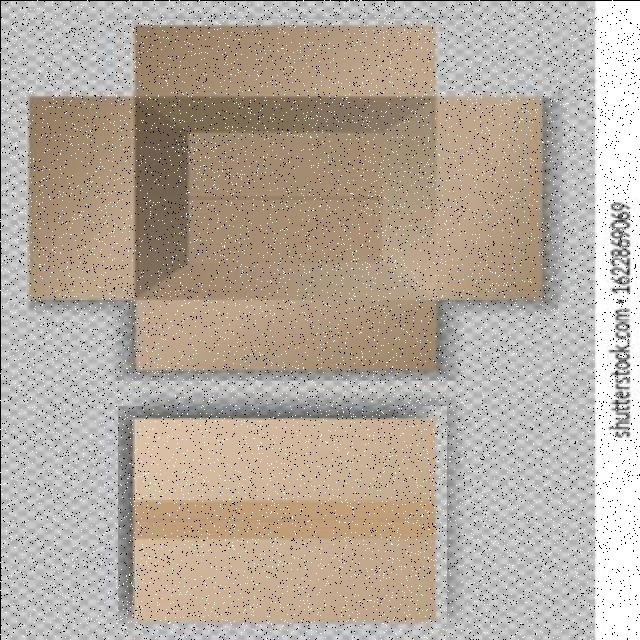defect: (18, 18, 557, 380)
normal: (117, 405, 446, 629)
